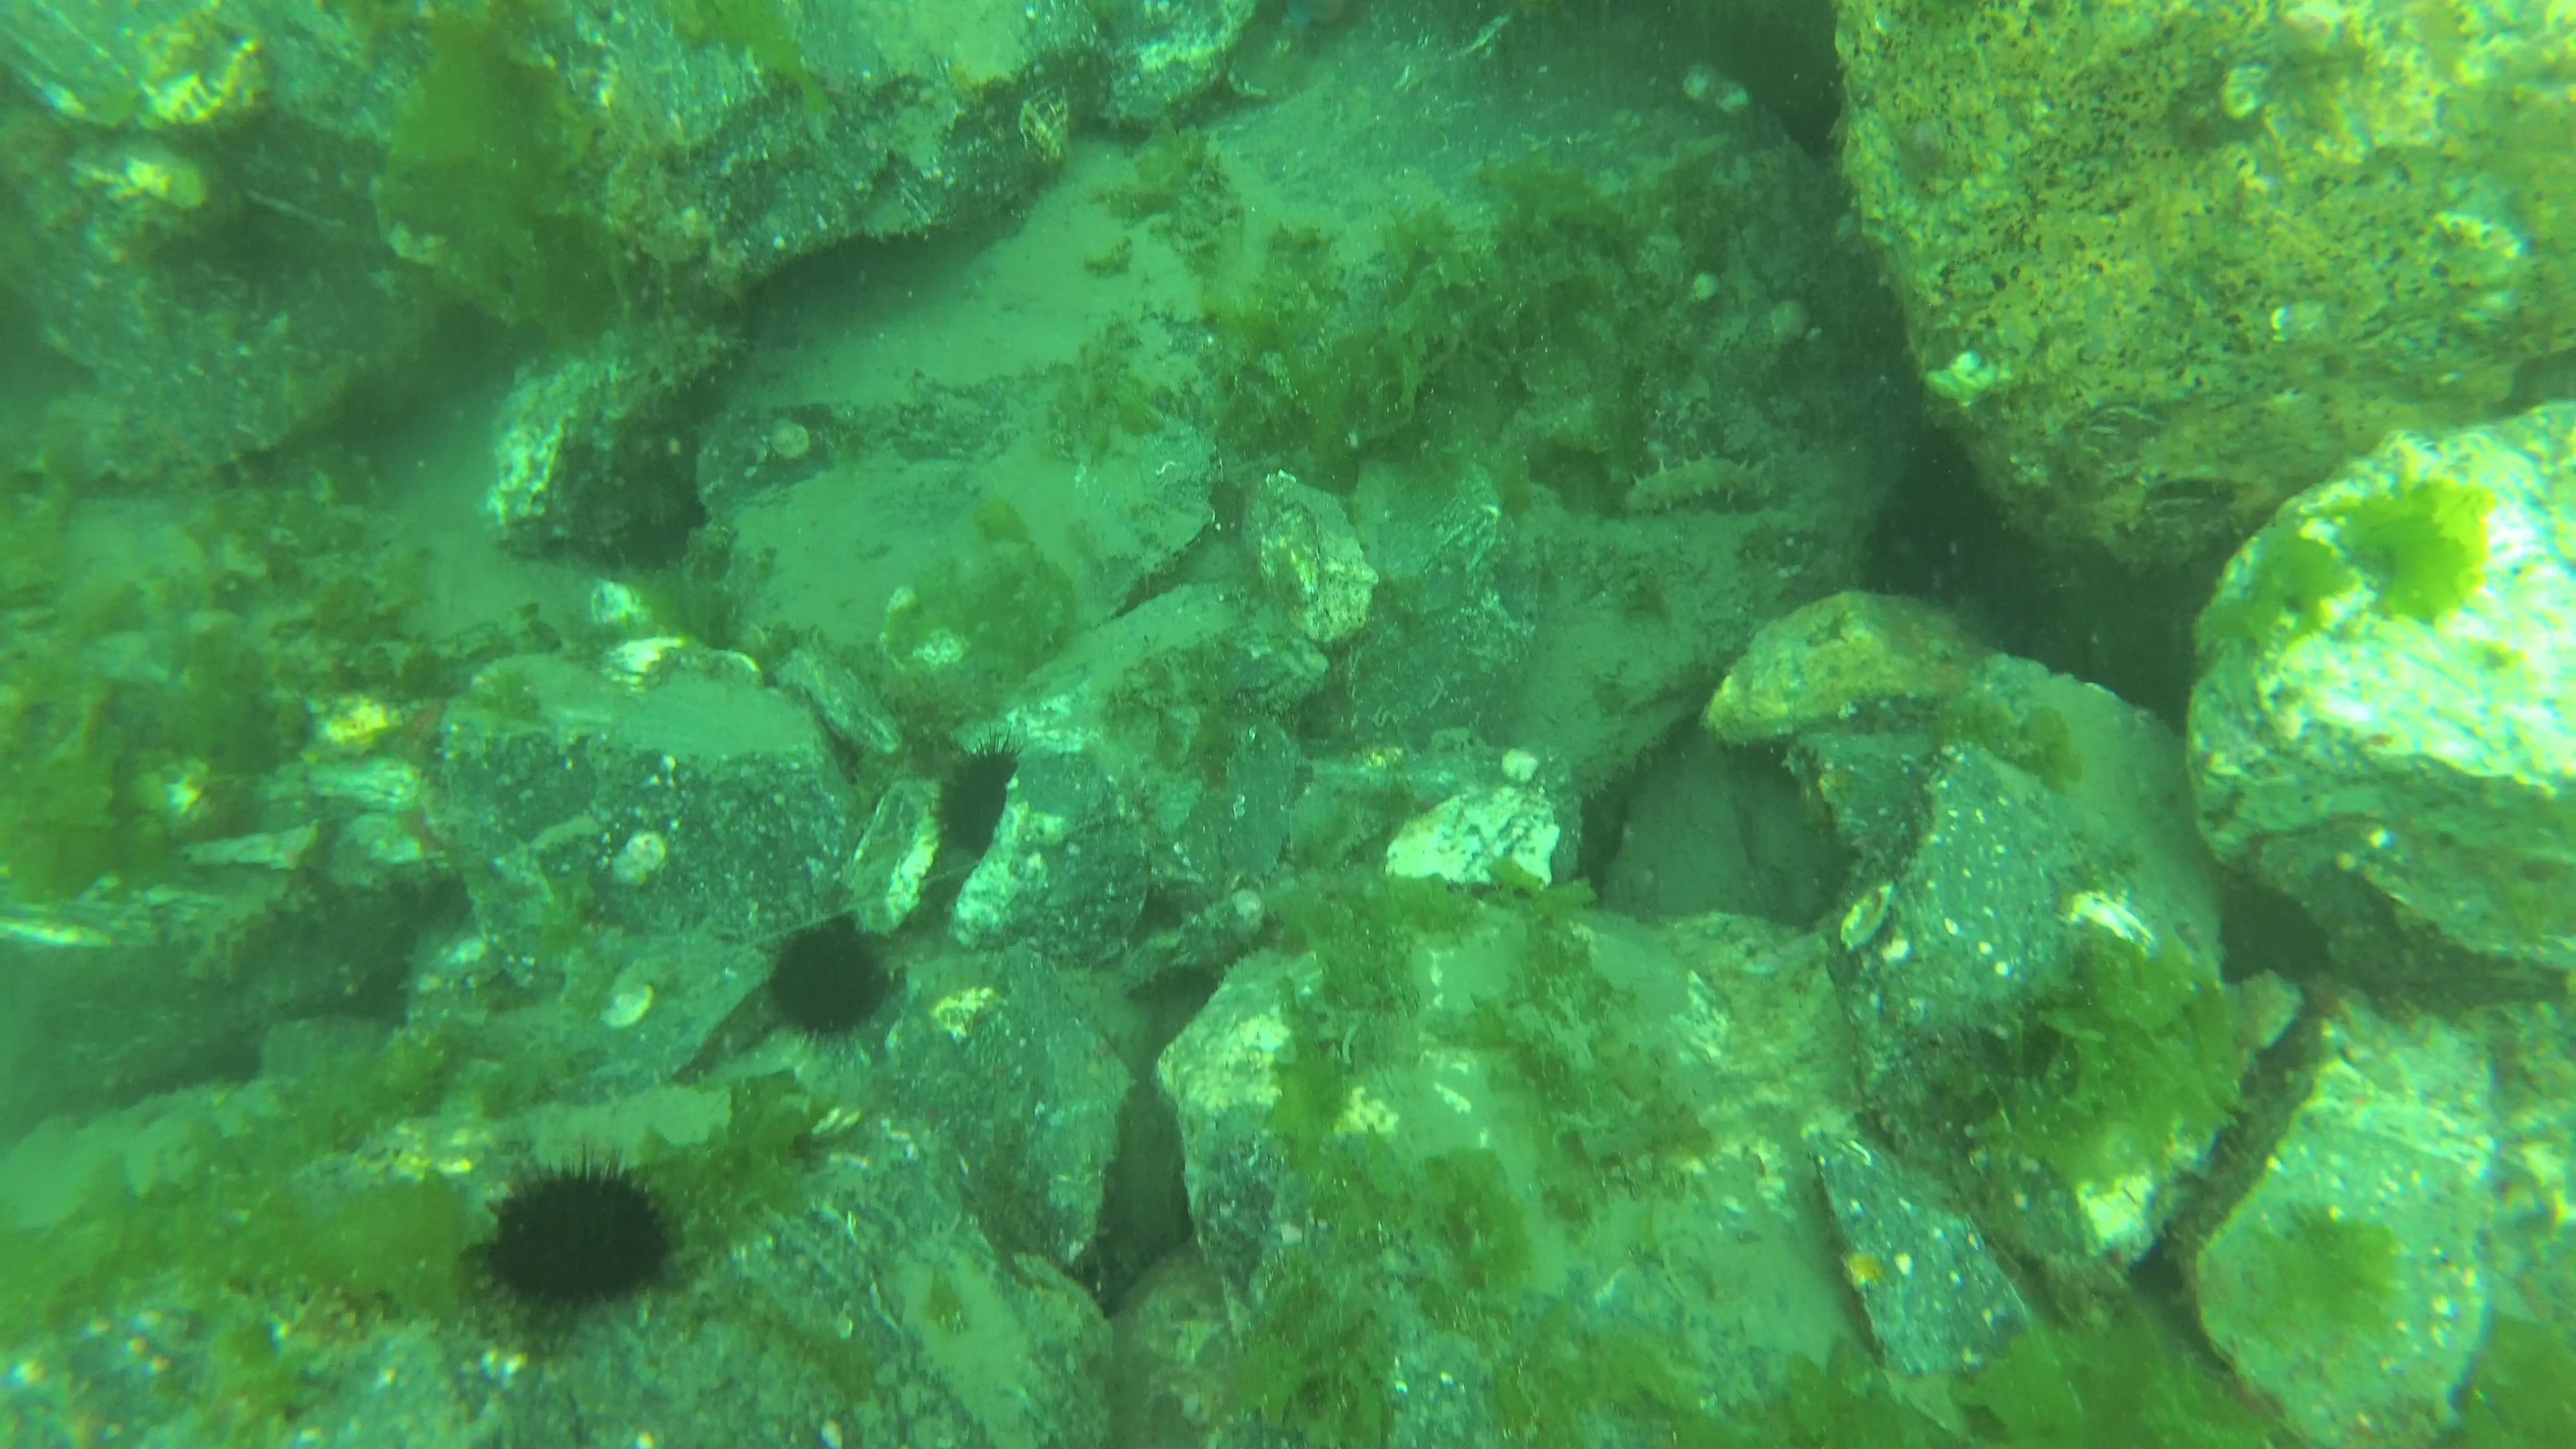echinus: (465, 1143, 694, 1332), (757, 915, 909, 1049), (929, 732, 1030, 860)
holothurian: (1622, 432, 1778, 527)
